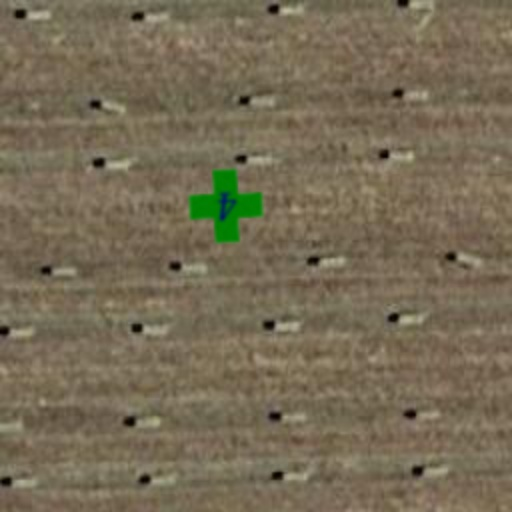cross: (186, 166, 266, 246)
